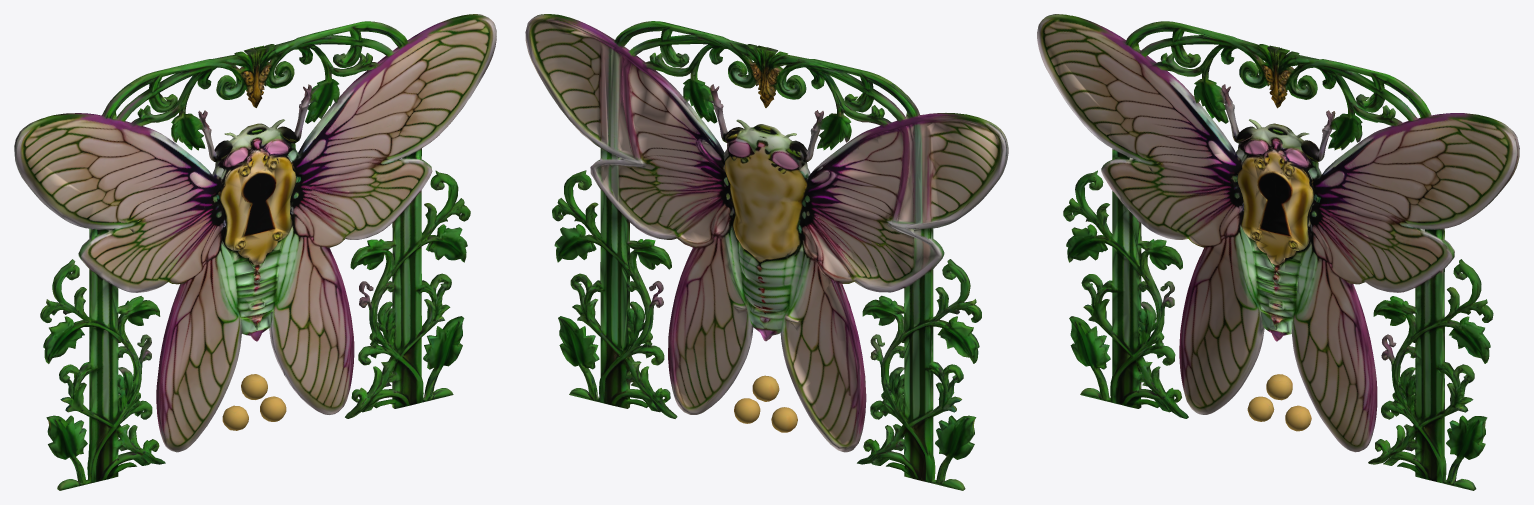
Rendered from cicada.glb.
The picture shows the model from 3 angles, left to right: view 1: azimuth 30°, elevation 25°; view 2: azimuth 150°, elevation 25°; view 3: azimuth 330°, elevation 25°; orthographic projection.
Parts seen in each view (by area): view 1: material; view 2: material; view 3: material.
Boxes of the visible parts, left/top/right/bottom form: material: left=14, top=14, right=496, bottom=490; material: left=525, top=14, right=1008, bottom=490; material: left=1037, top=14, right=1519, bottom=490.
Size of the model in its own units: 1.01 by 0.79 by 0.049.
1 material, 1 textured.
